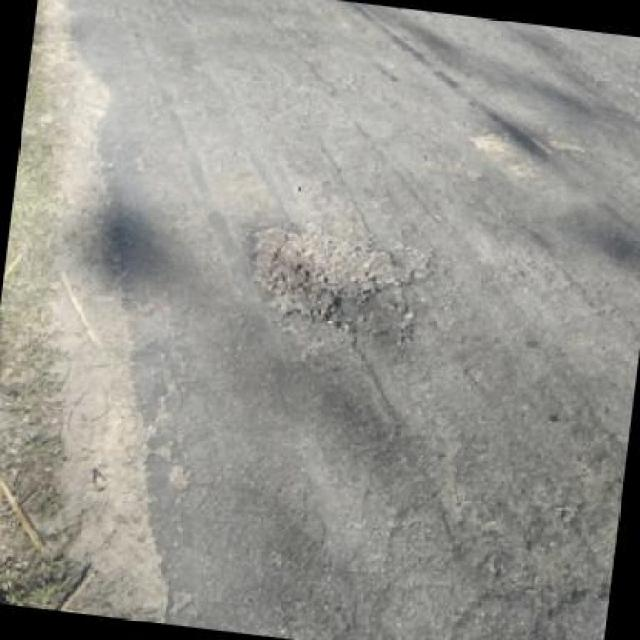pothole1: (233, 213, 436, 338)
